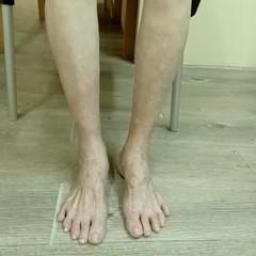Dorsal View -Both Feet-: (42, 118, 184, 248)
